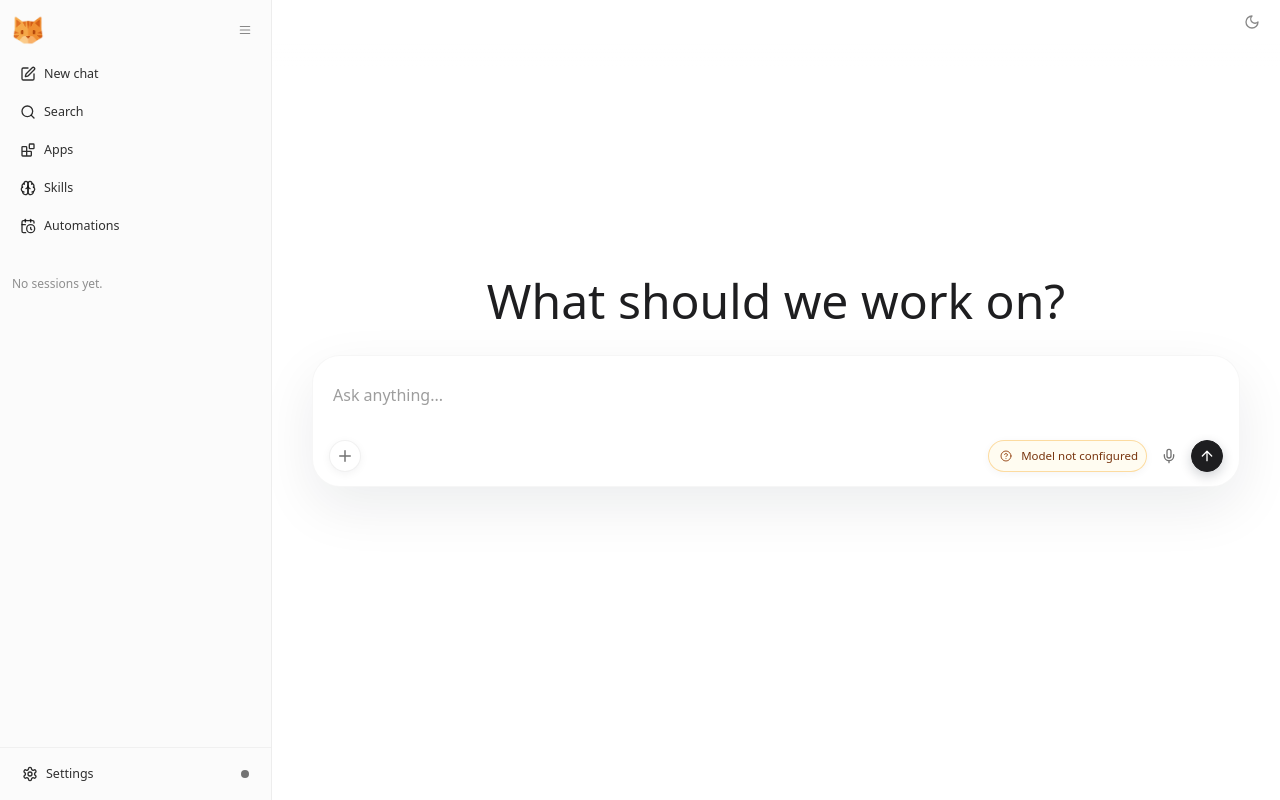
Test case: App layout › opens Apps from the main sidebar without replacing the sidebar
Click the button "Apps": (136, 150) [8,134,263,166]
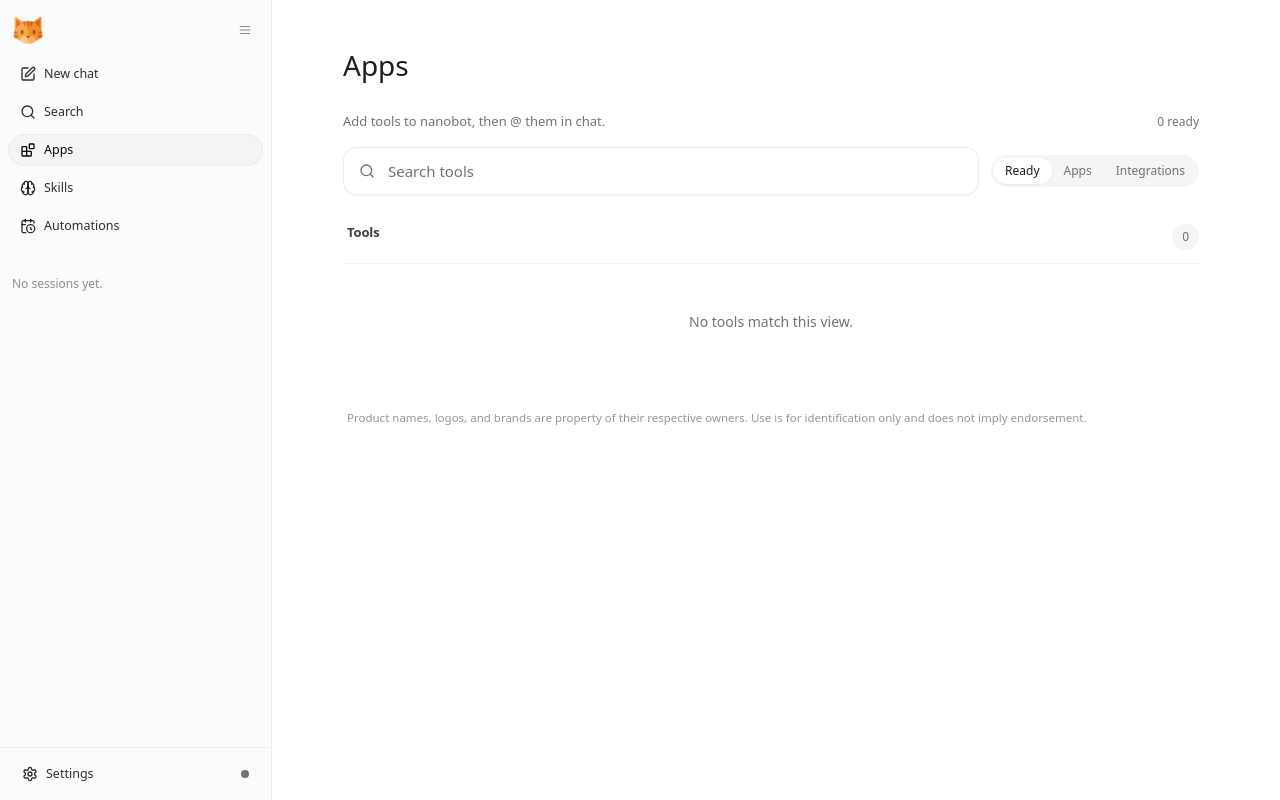
Expected: the navigation bar named "Sidebar navigation" is shown, [0,0,272,799]
Now the heading "Apps" is shown, box [343,46,409,84]
